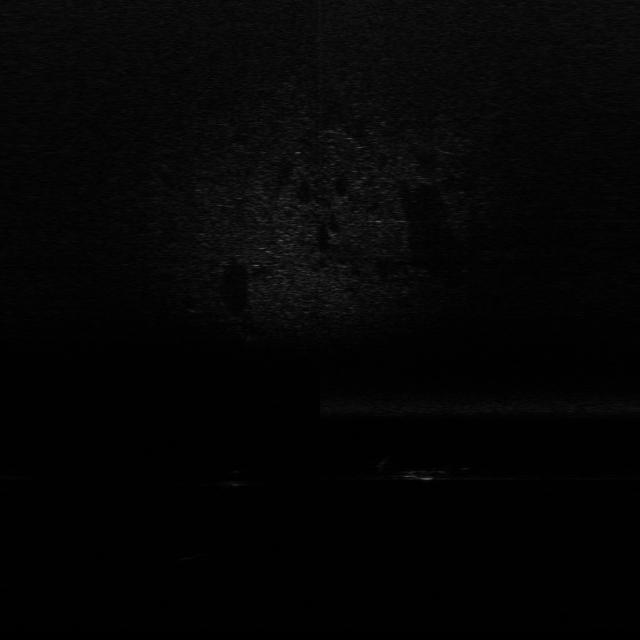ball: (223, 465, 253, 487)
circle cage: (172, 548, 214, 568)
human body: (376, 452, 486, 488)
